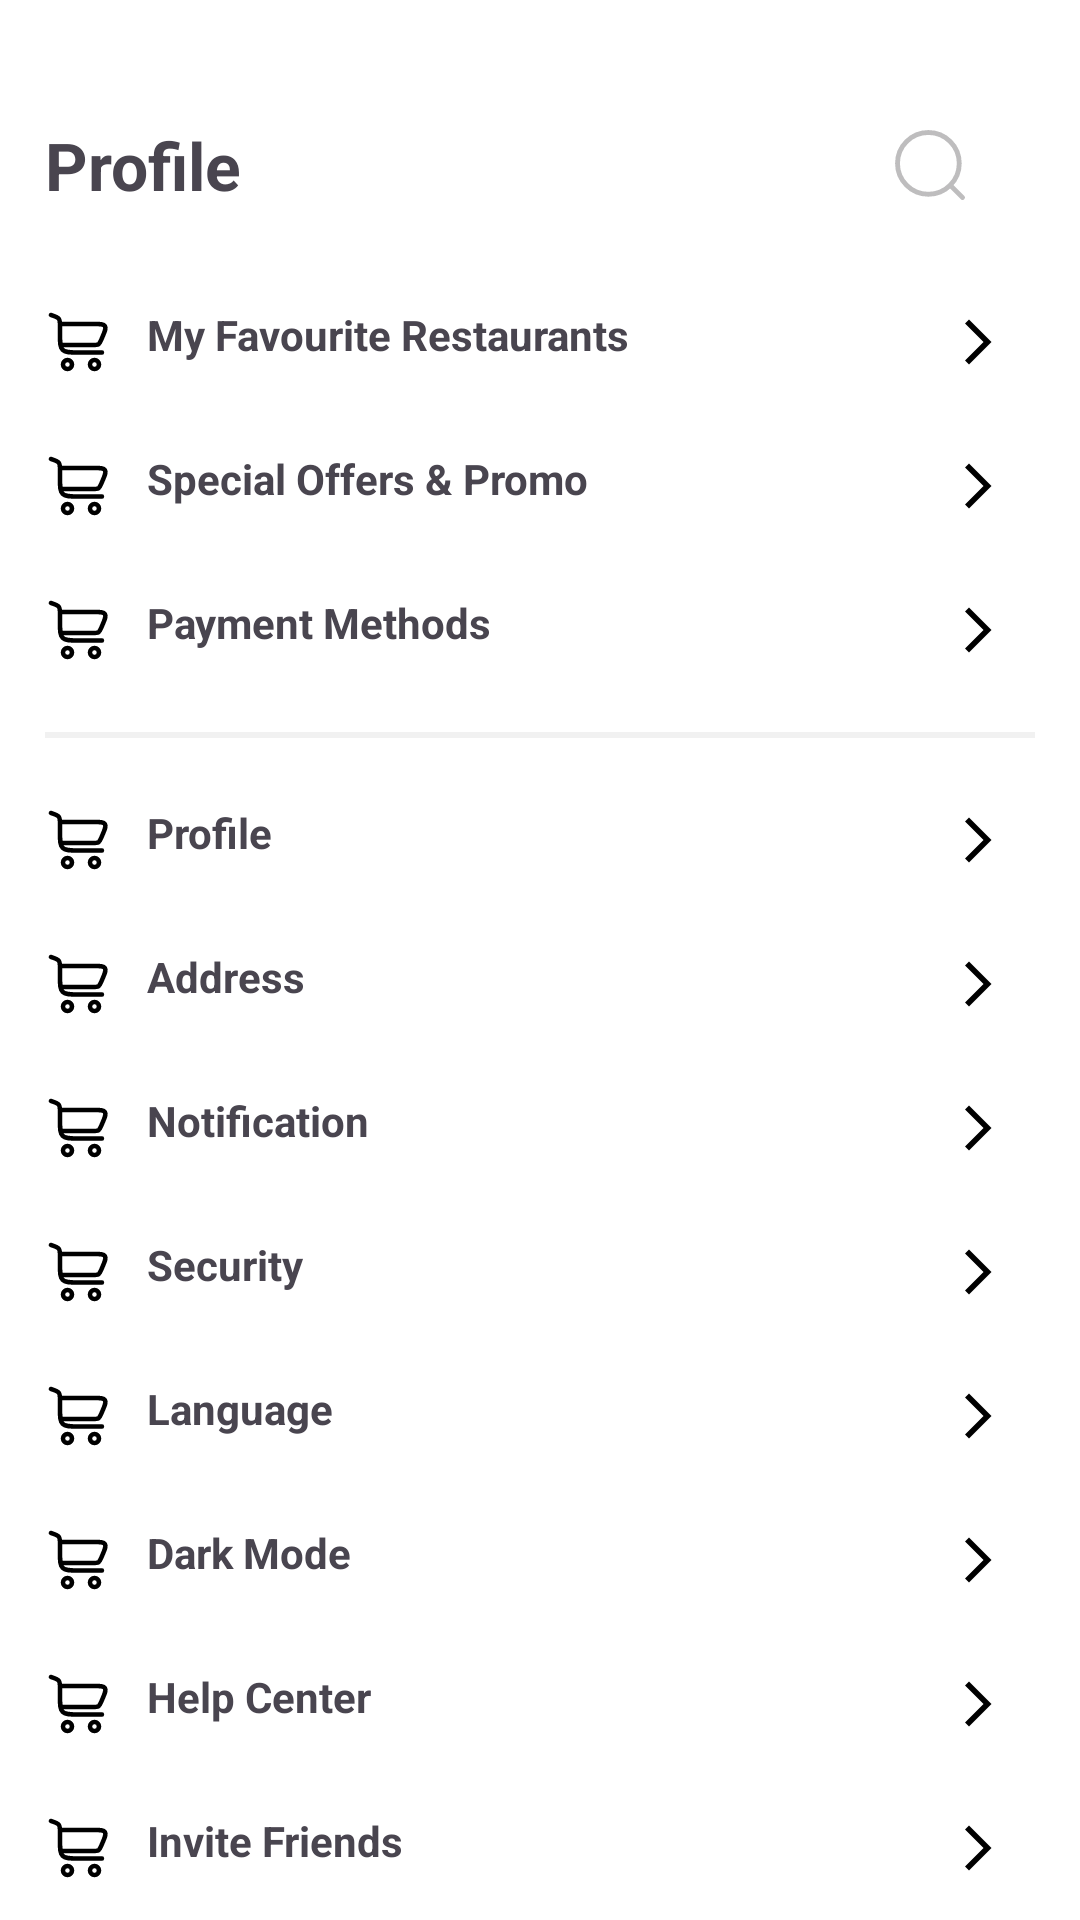

Named icons in this screenshot (1080px x 1920px) and their bounding boxes, (x1, y1, x2, y2):
search: (895, 130, 965, 200)
